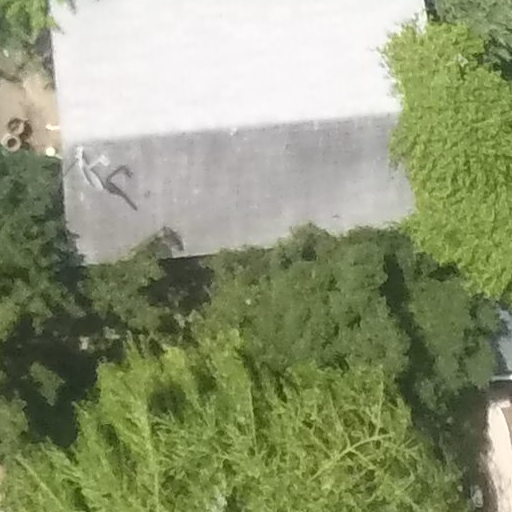container: (5, 112, 30, 137), (1, 130, 25, 152)
